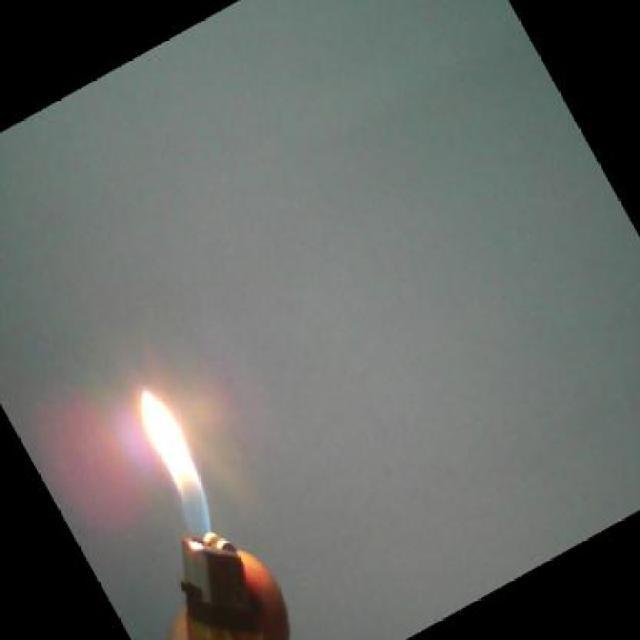Fire: (129, 380, 232, 532)
